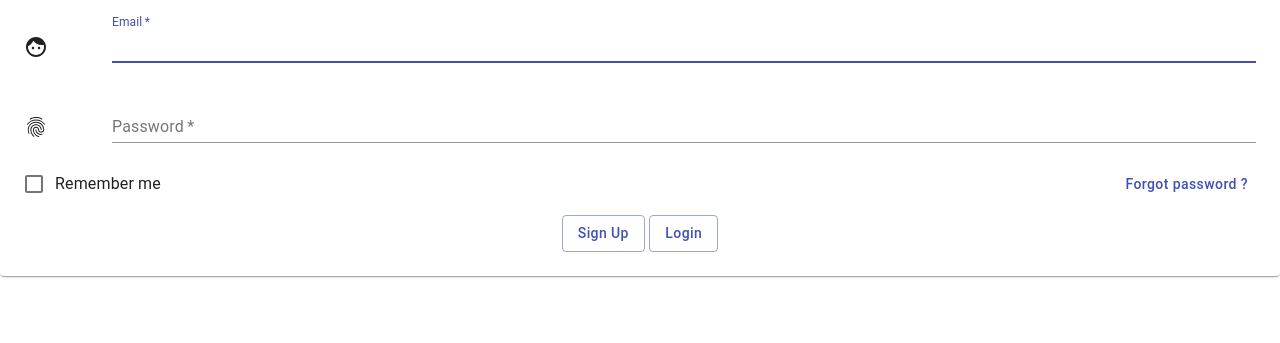
<Login /> › displays error message if login unsuccessful
This screenshot has width=1280, height=343.
Type "test_user@mail.com" into the field labelled "Email *" at x=684, y=47, box [112,31,1256,63]
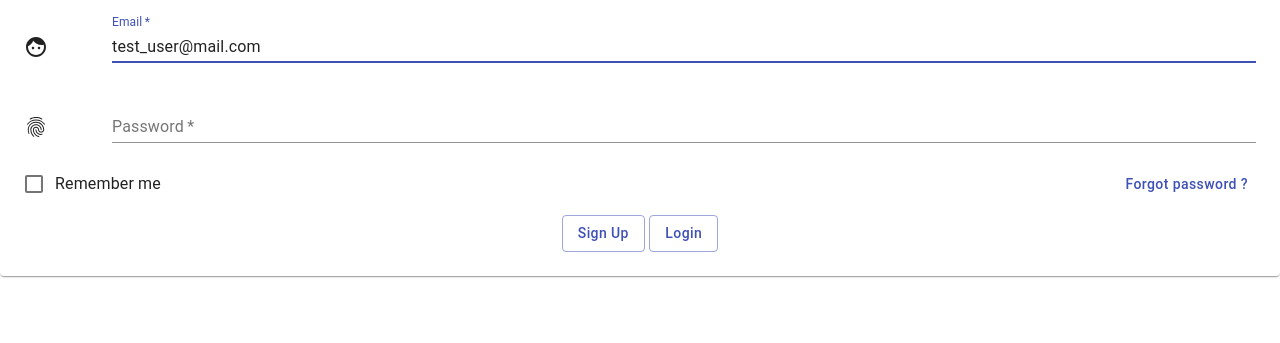
Type "password1234" into the password field labelled "Password *" at x=684, y=127, box [112,111,1256,143]
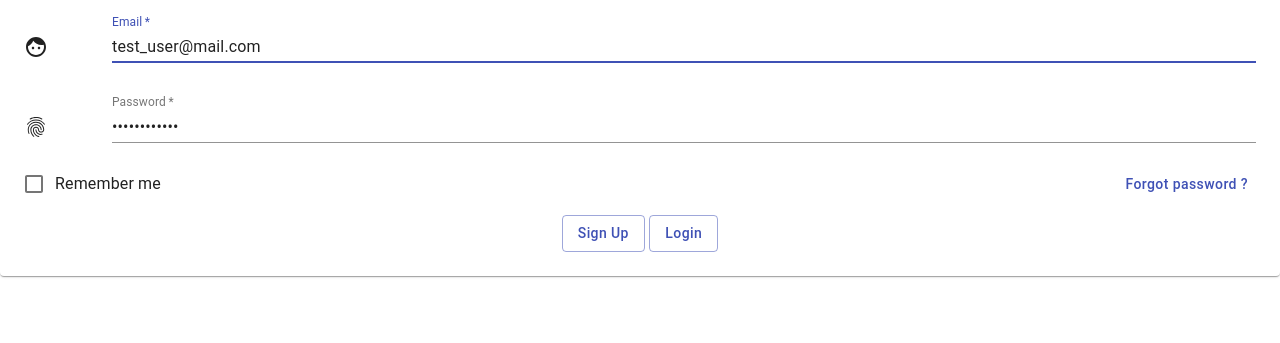
Click the button "Login" at x=684, y=233, box [649,215,718,252]
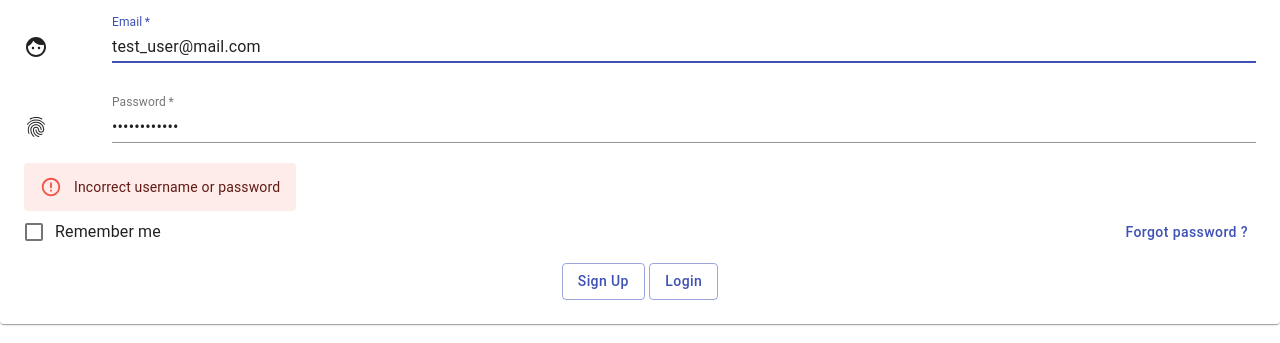
Check: the message "Incorrect username or password" is shown, box [24,163,296,211]
Check: the text "Incorrect username or password" is shown, box [74,179,280,195]
